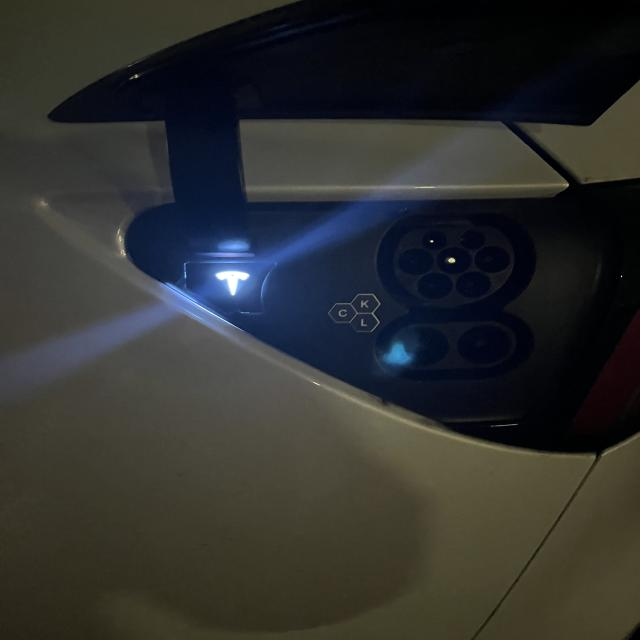inlet: (392, 227, 514, 307)
inlet-above-left: (422, 231, 447, 250)
inlet-above-right: (461, 230, 485, 248)
inlet-below-left: (417, 272, 453, 299)
inlet-below-right: (456, 271, 491, 297)
inlet-circle: (436, 247, 472, 274)
inlet-circle-left: (398, 248, 434, 276)
inlet-circle-right: (474, 246, 511, 273)
inlet-minus: (457, 325, 512, 364)
inlet-plus: (394, 327, 449, 367)
